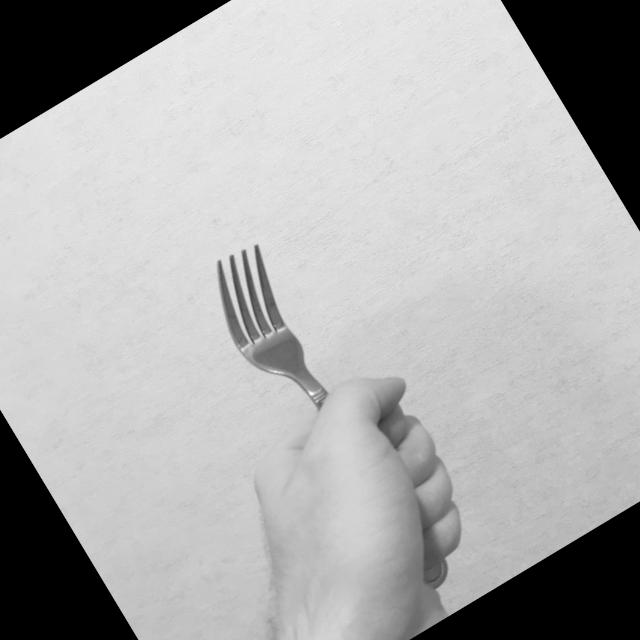fork: (189, 234, 472, 628)
